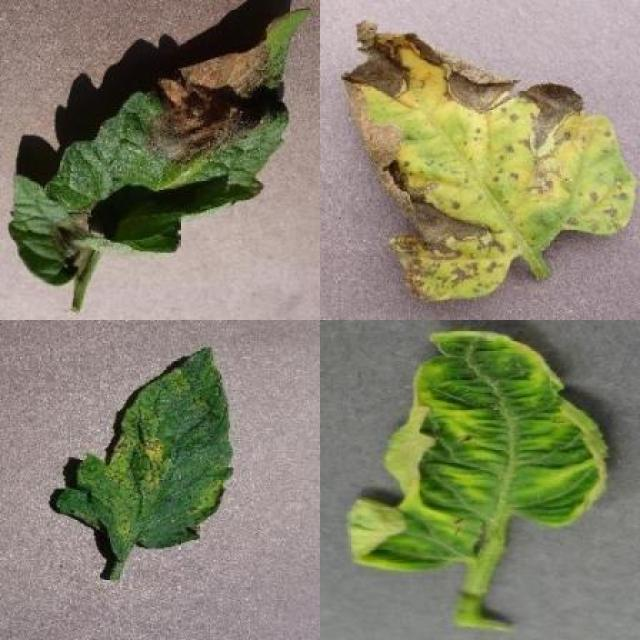Late Blight: (8, 10, 311, 287)
Septoria: (344, 23, 639, 303), (54, 346, 236, 551)
Yellow Leaf Curl Virus: (347, 325, 609, 572)
